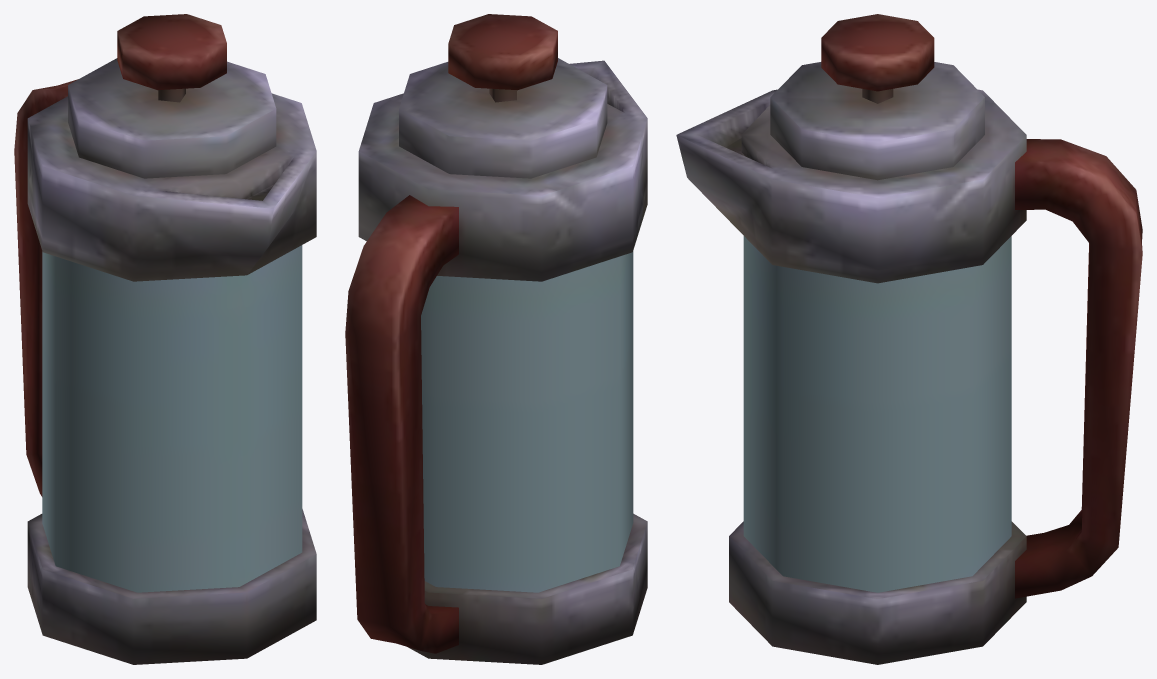
3 renders of one model, left to right at view 1: azimuth 30°, elevation 25°; view 2: azimuth 150°, elevation 25°; view 3: azimuth 270°, elevation 25°, orthographic.
Bounding box in the file's own units: 0.3127 × 0.654 × 0.49.
2 materials, 2 textured.
